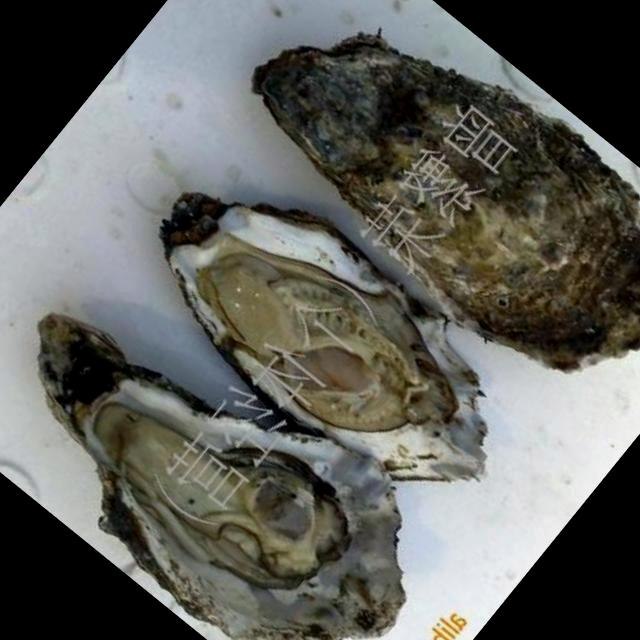Oyster-Closed: (252, 33, 640, 374)
Oyster-Open: (38, 316, 406, 640), (160, 193, 490, 481)
